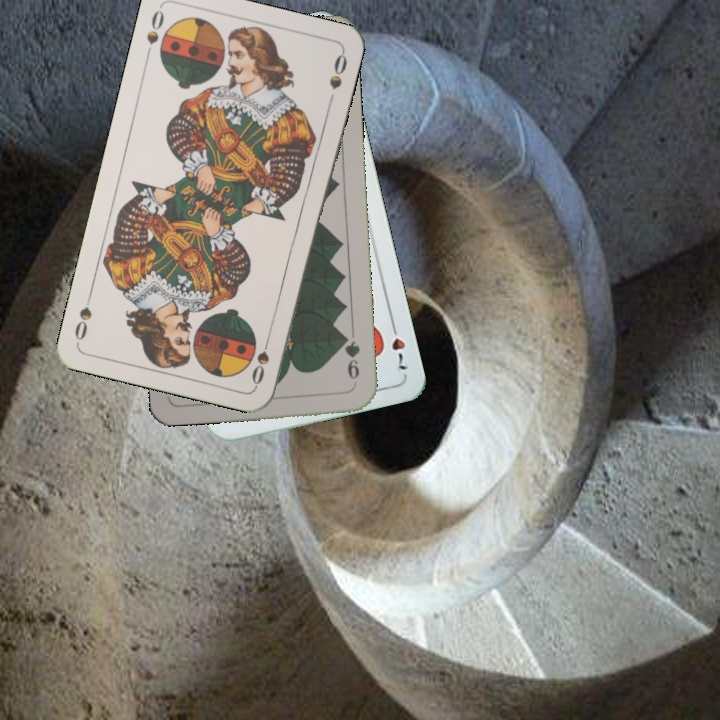G9: (339, 330, 363, 389)
H7: (386, 317, 411, 374)
SO: (247, 329, 273, 388), (141, 6, 167, 62)
